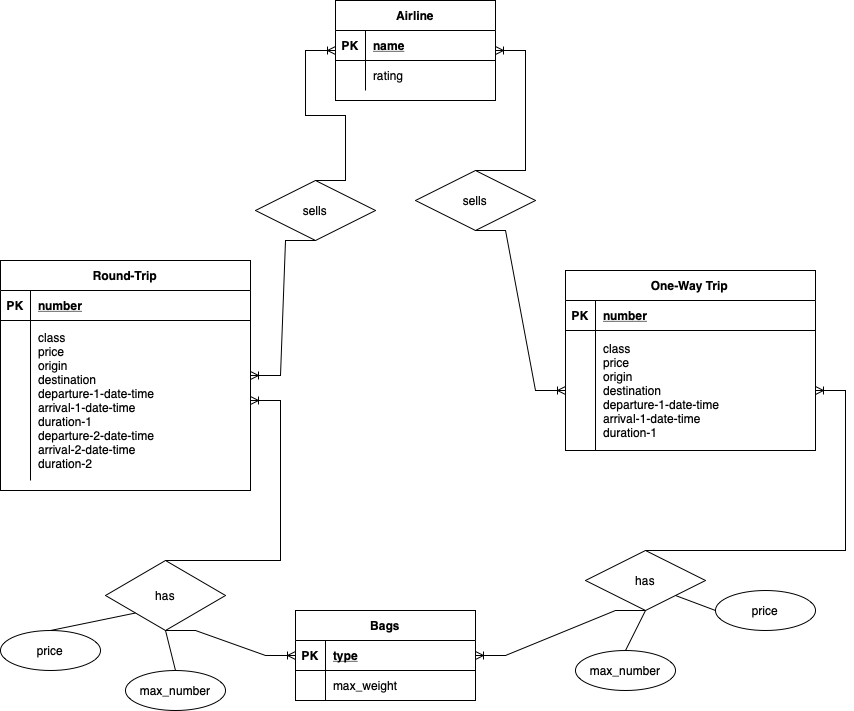entity: (1, 261, 250, 491), (566, 271, 817, 451), (334, 1, 495, 100), (295, 611, 474, 700)
many: (265, 649, 295, 663), (474, 649, 506, 661), (250, 369, 281, 381), (251, 395, 281, 407), (816, 385, 846, 397), (496, 45, 525, 57), (306, 44, 337, 54), (535, 386, 565, 396)
rel: (106, 560, 225, 632), (416, 169, 537, 230), (256, 181, 377, 239), (584, 552, 706, 609)
rel_attr: (576, 649, 677, 693), (124, 671, 227, 711), (2, 631, 100, 673), (716, 590, 817, 630)
